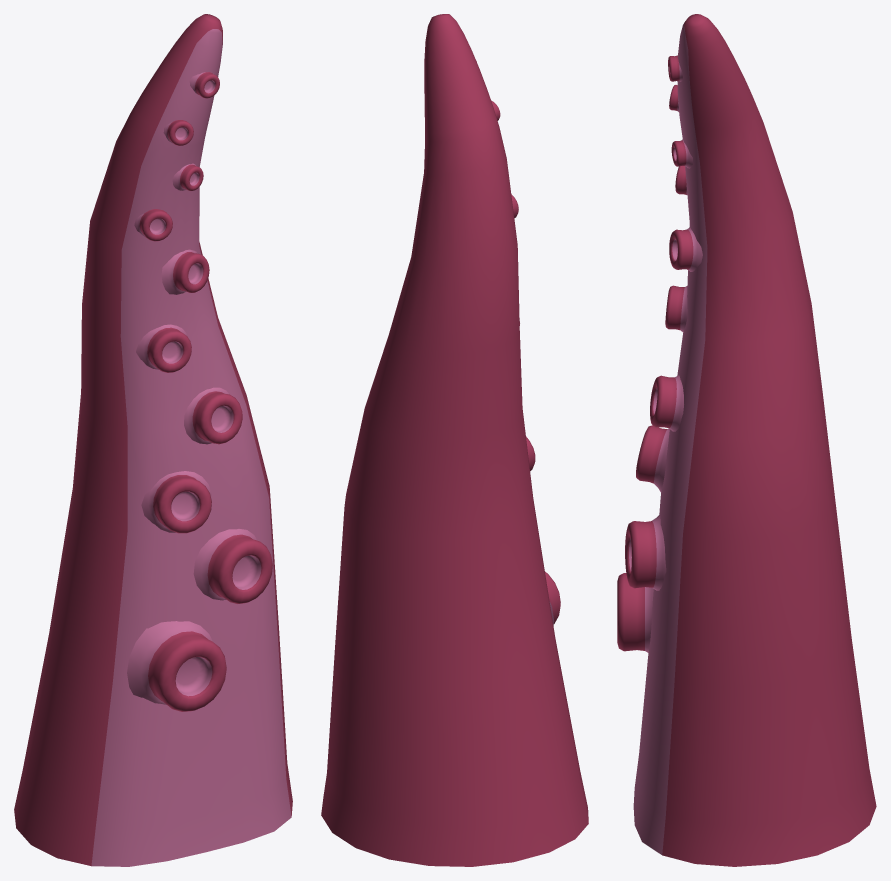
File: SM_ShortTrippyTreeA1.fbx
3 views of the same model, side by side, from view 1: azimuth 30°, elevation 25°; view 2: azimuth 150°, elevation 25°; view 3: azimuth 270°, elevation 25° (orthographic). The views are drawn at different scales.
Visible parts, largest first — view 1: tentacle, sucker; view 2: tentacle, sucker; view 3: tentacle, sucker.
Part boxes in pixels (bbox=[...]): tentacle: bbox=[14, 14, 292, 866]; sucker: bbox=[127, 72, 272, 711]; tentacle: bbox=[321, 14, 588, 866]; sucker: bbox=[476, 61, 560, 625]; tentacle: bbox=[633, 14, 876, 866]; sucker: bbox=[617, 55, 702, 652].
Size of the model in its own units: 666 by 2069 by 602.
